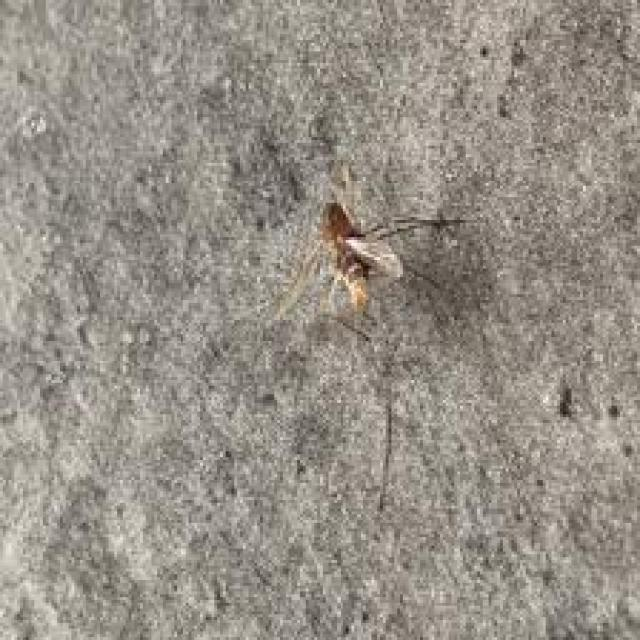Culex: (268, 163, 472, 340)
